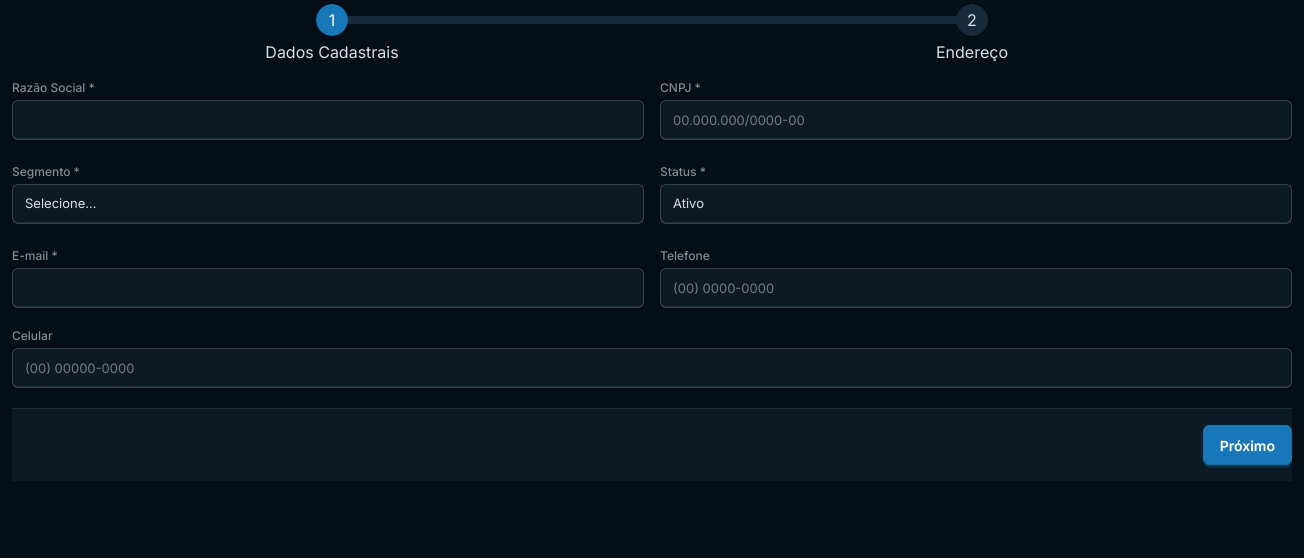
Test: ClientStepper — passo 1 (Dados Cadastrais) › não avança para o passo 2 se campos obrigatórios estão vazios
Click the button "Próximo" at (1247, 445), box x1=1203 y1=425 x2=1292 y2=465
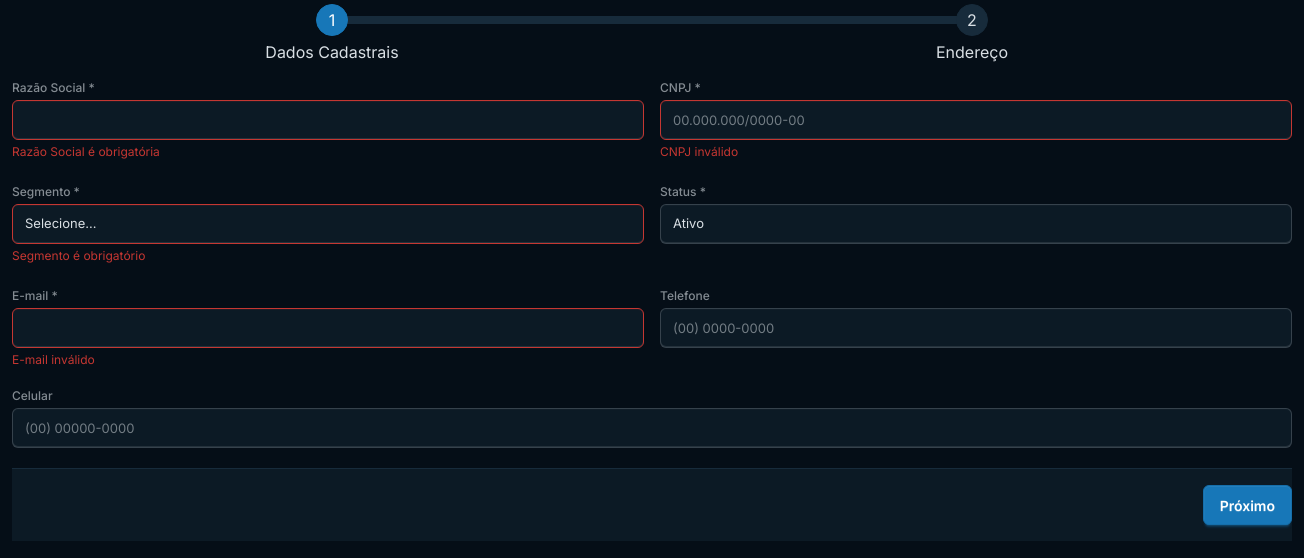
Check: the text "Razão Social é obrigatória" is shown, box x1=12 y1=144 x2=160 y2=159
